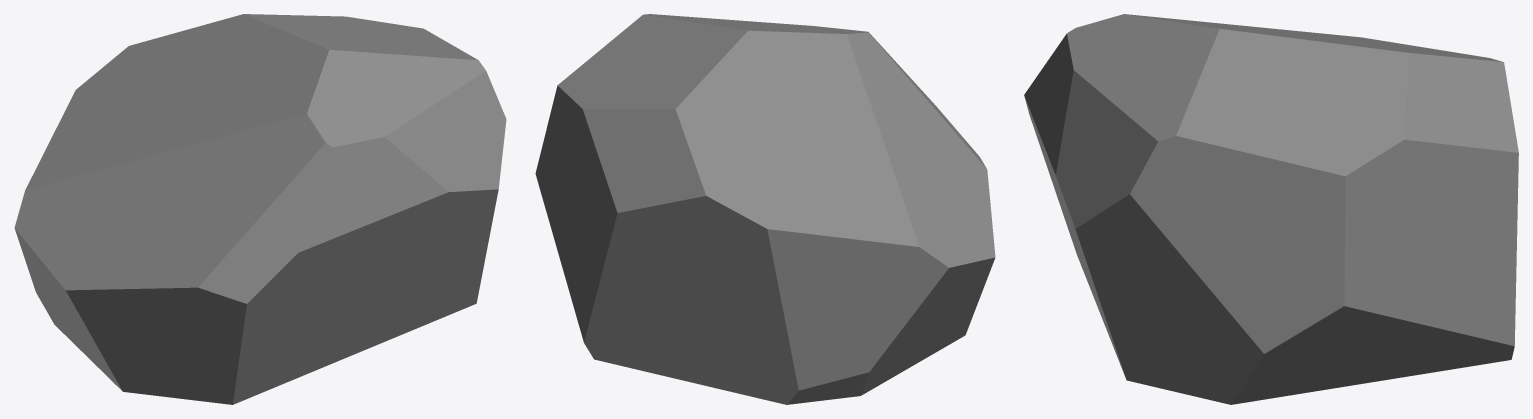
File: Rock8.fbx
3 renders of one model, left to right at view 1: azimuth 30°, elevation 25°; view 2: azimuth 150°, elevation 25°; view 3: azimuth 270°, elevation 25°, orthographic. The views are drawn at different scales.
Visible parts, largest first — view 1: Cube.006; view 2: Cube.006; view 3: Cube.006.
Boxes of the visible parts, <box> form: Cube.006: <box>14,14,506,404</box>; Cube.006: <box>535,14,995,404</box>; Cube.006: <box>1024,14,1518,404</box>.
Size of the model in its own units: 2802 by 1722 by 2348.
